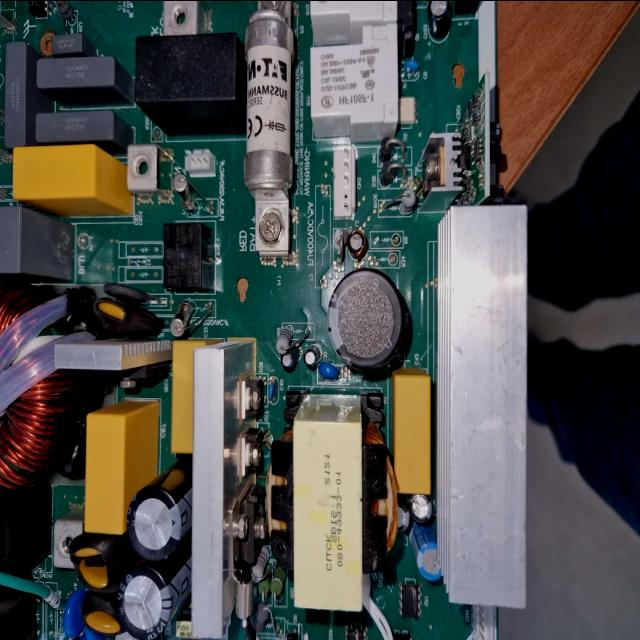A: (0, 277, 84, 494)
B: (245, 0, 291, 258)
C: (328, 268, 406, 368), (118, 560, 184, 640), (128, 478, 192, 559)
